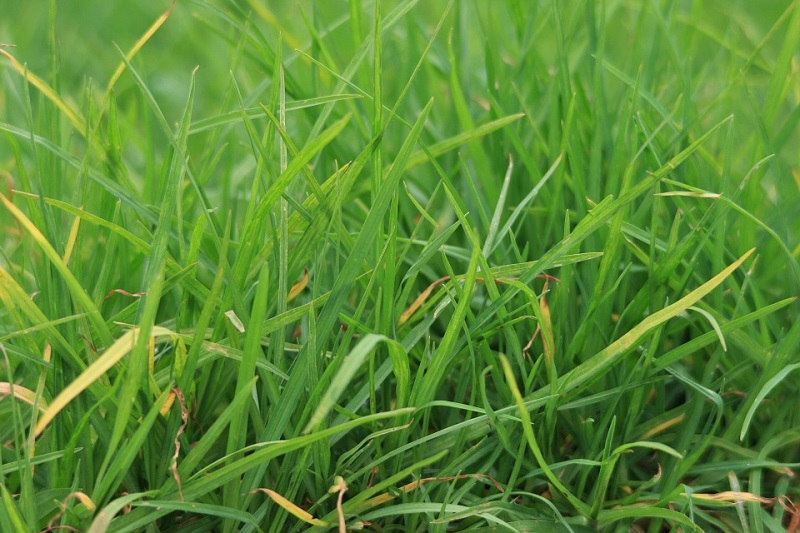grass: (1, 1, 800, 532)
